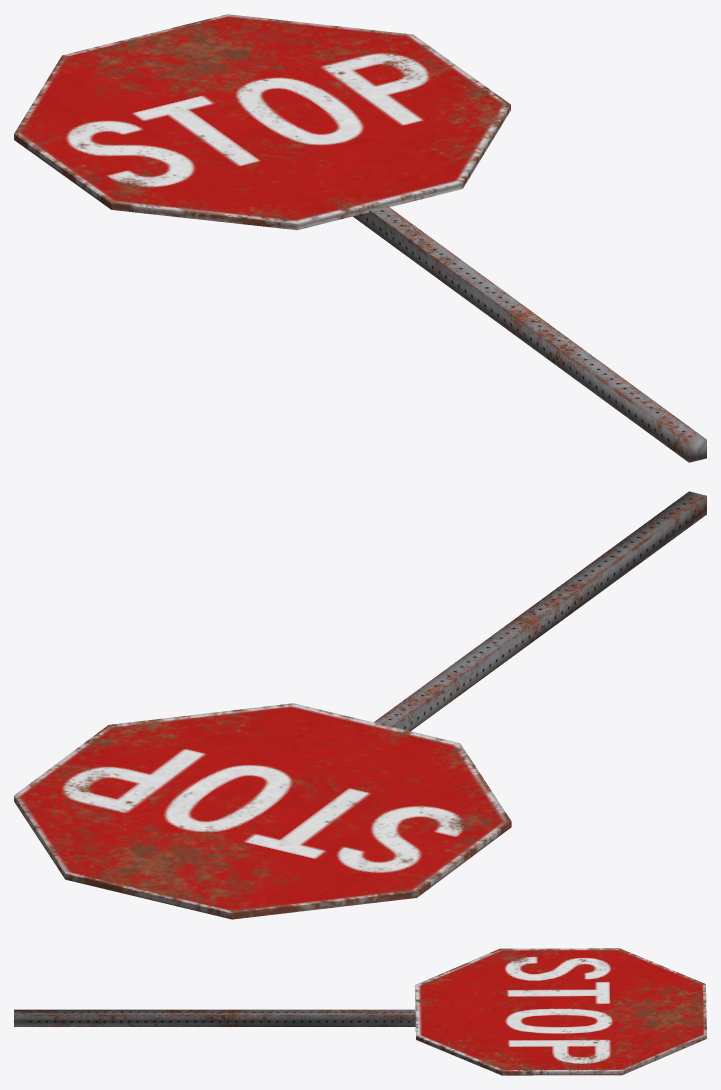
The model's file is stop_sign.fbx.
The picture shows the model from 3 angles, top to bottom: view 1: azimuth 30°, elevation 25°; view 2: azimuth 150°, elevation 25°; view 3: azimuth 270°, elevation 25°; orthographic projection. The views are drawn at different scales.
Visible parts, largest first — view 1: pCube101; view 2: pCube101; view 3: pCube101.
Part boxes in pixels (x1,y1,x2,y2): pCube101: (14,14,706,462); pCube101: (14,491,706,919); pCube101: (14,948,706,1075).
Bounding box in the file's own units: 748 × 40.01 × 1775.
Materials: 1 (1 with a texture image).
